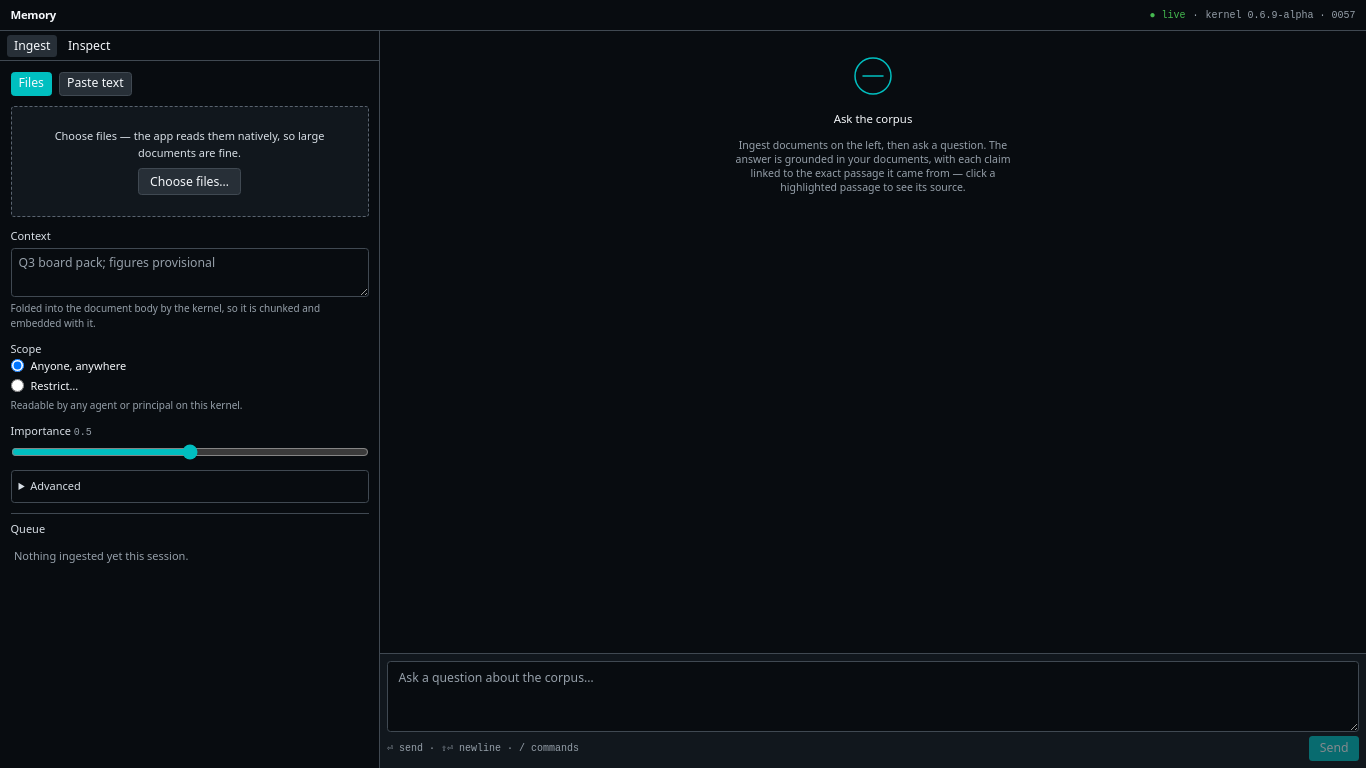
Test: MemoryPage — ingest › marks a row indexed once the synchronous ingest resolves
Click the button "Paste text" at coordinates (95, 84), box [59,72,132,96]
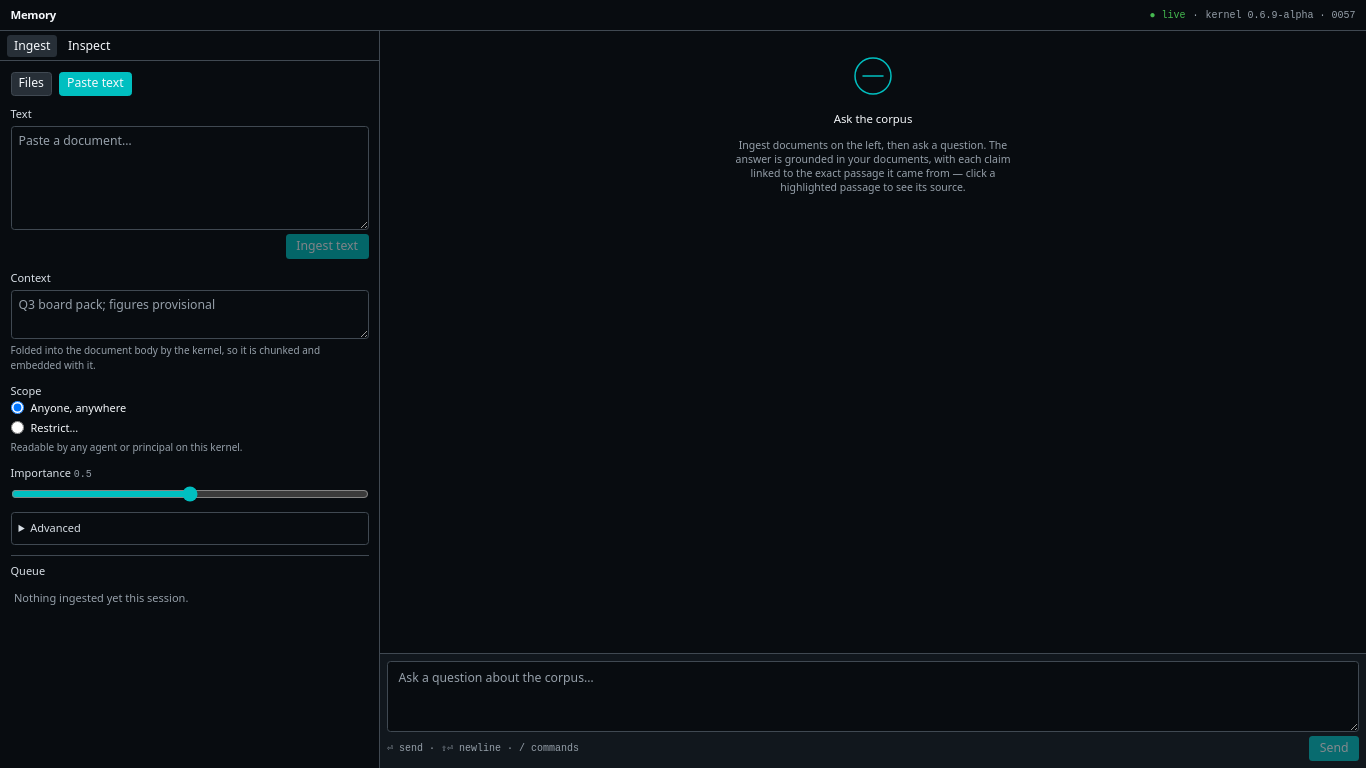
Type "x" into the text box labelled "Text" at coordinates (190, 178), box [10,126,368,230]
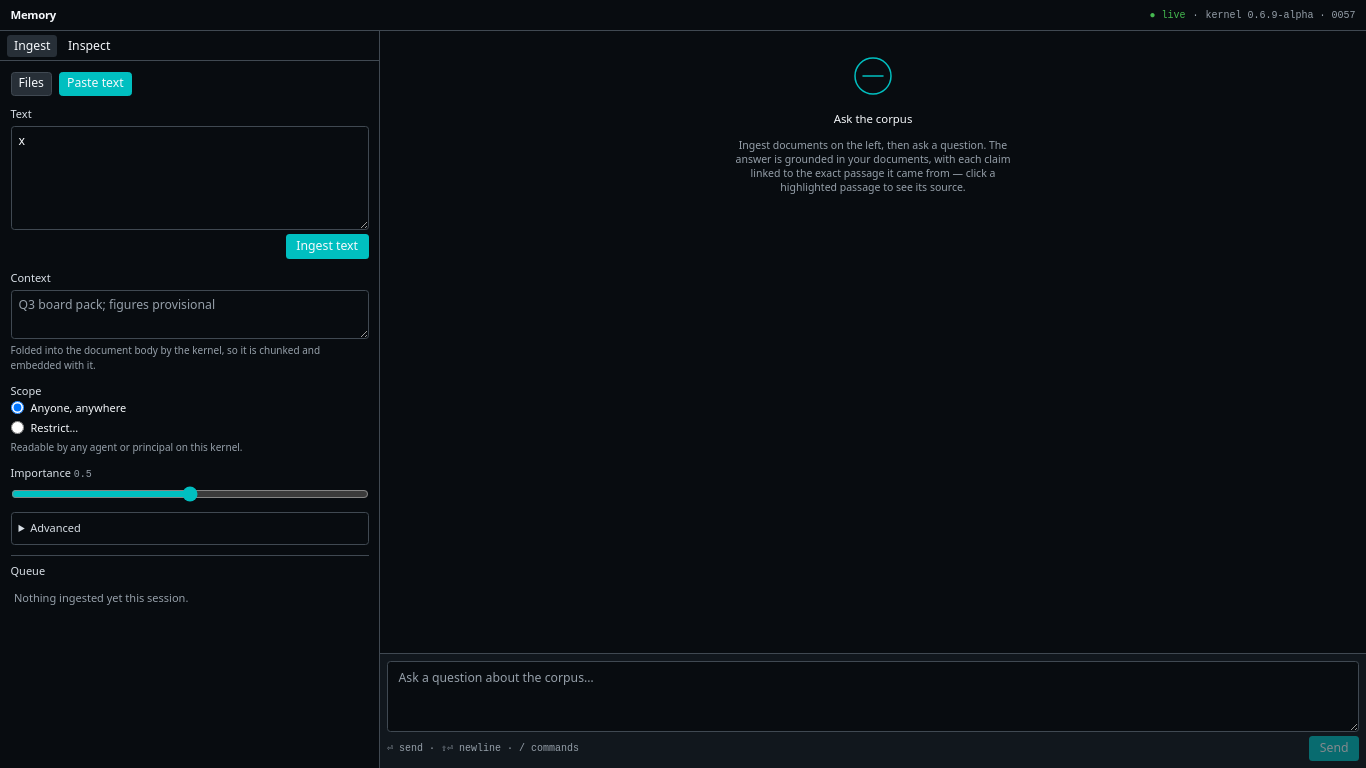
Click the button "Ingest text" at coordinates (327, 247), box [286,234,368,259]
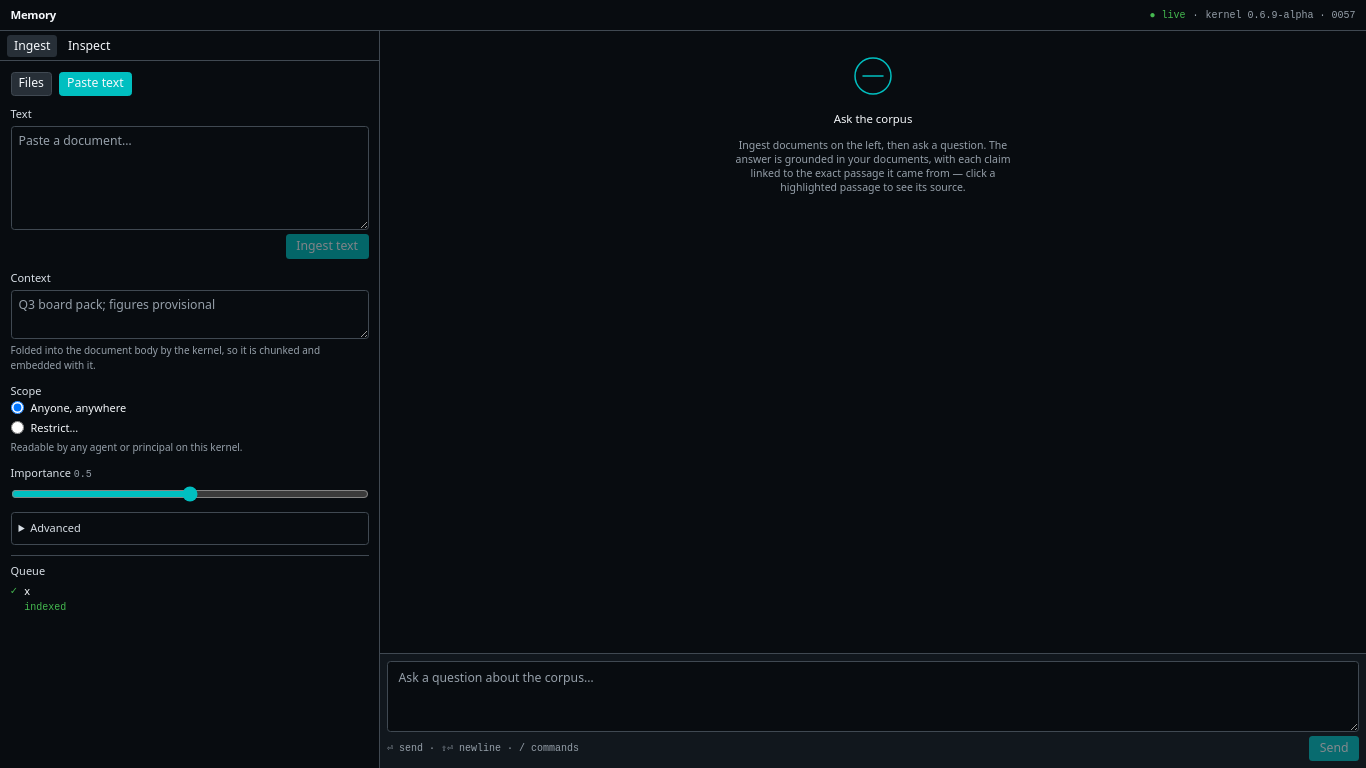
Result: the text "indexed" is shown at [24,600,66,614]
